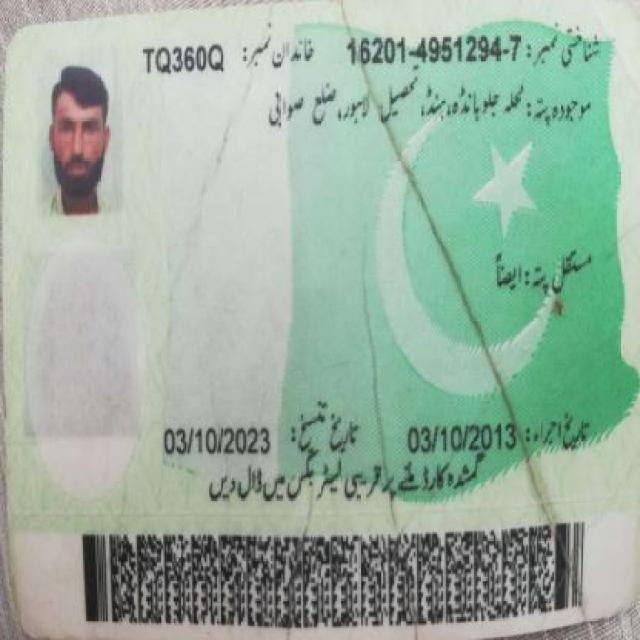Back: (3, 11, 635, 622)
